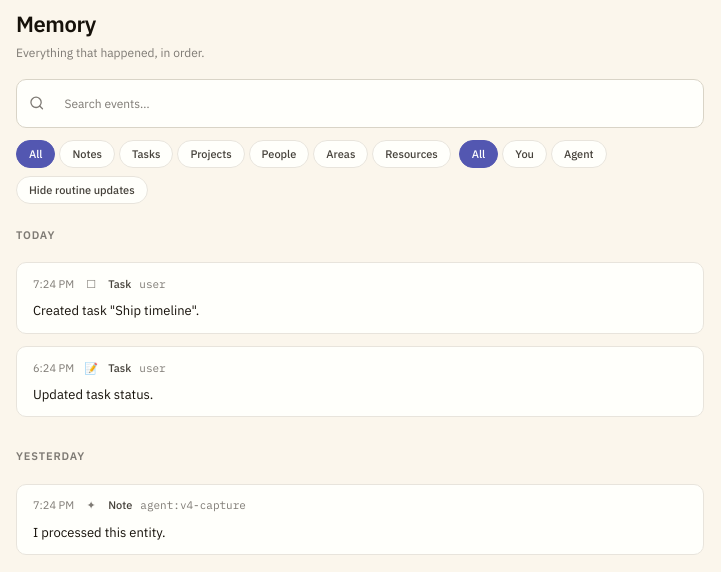
V5Memory › renders a search input and client-side search filter
In the search field: x=372, y=104 [52,88,691,119], type "timeline"
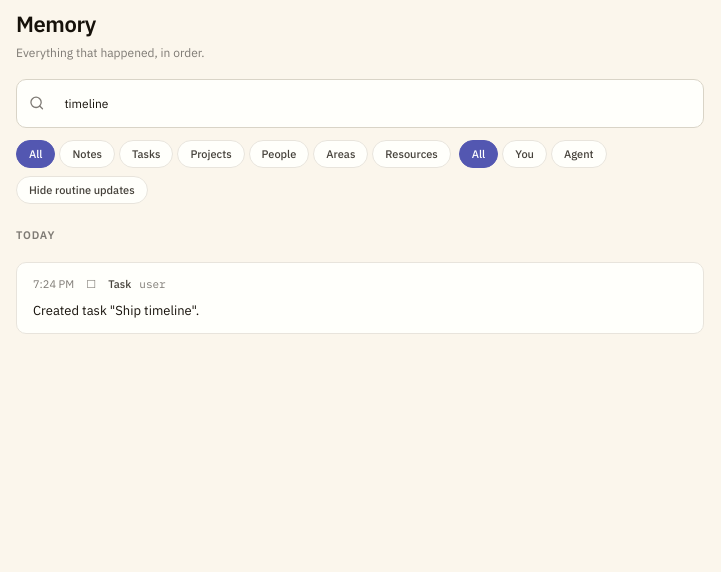
Expected: the text "Created task \"Ship timeline\"." is shown, [33,302,199,319]
Expected: the text "I processed this entity" is gone
